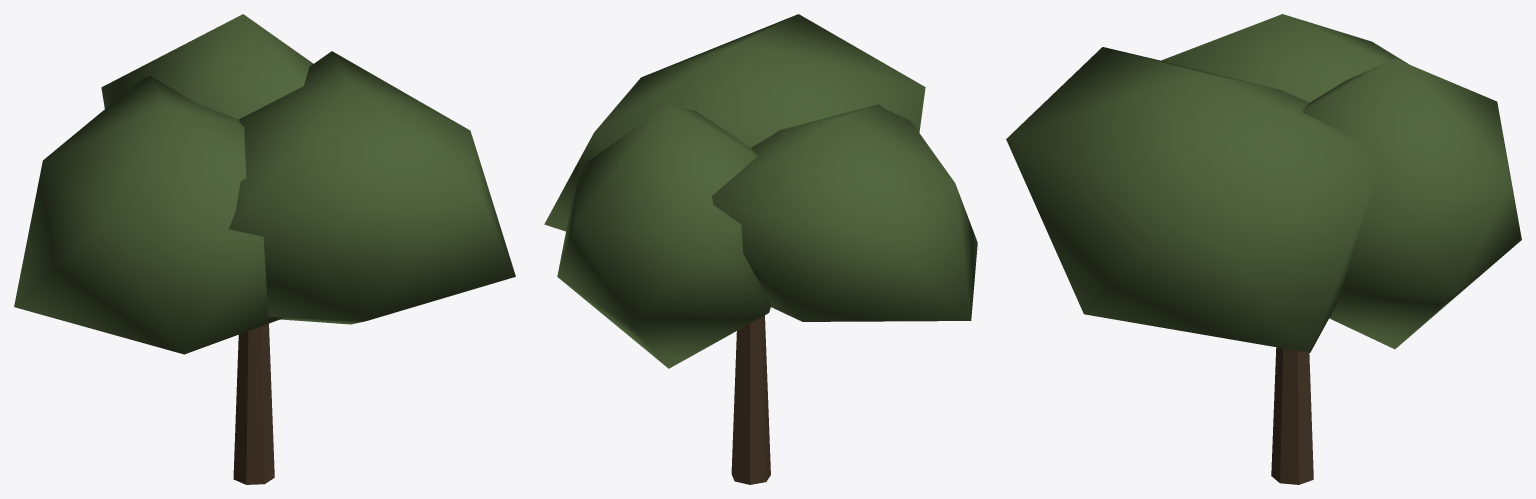
File: fv_tree_c.glb
3 views of the same model, side by side, from view 1: azimuth 30°, elevation 25°; view 2: azimuth 150°, elevation 25°; view 3: azimuth 270°, elevation 25° (orthographic). The views are drawn at different scales.
Parts seen in each view (by area): view 1: fv_tree_x2_c2.001, fv_tree_x2_c1.001, fv_tree_x2_c0.001, fv_tree_x2_trunk.001; view 2: fv_tree_x2_c1.001, fv_tree_x2_c0.001, fv_tree_x2_c2.001, fv_tree_x2_trunk.001; view 3: fv_tree_x2_c2.001, fv_tree_x2_c0.001, fv_tree_x2_c1.001, fv_tree_x2_trunk.001.
Boxes of the visible parts, x1,y1,x2,y2 form: fv_tree_x2_c2.001: (229,51,515,324); fv_tree_x2_c1.001: (14,75,284,354); fv_tree_x2_c0.001: (101,14,313,119); fv_tree_x2_trunk.001: (233,323,274,484); fv_tree_x2_c1.001: (712,104,977,321); fv_tree_x2_c0.001: (557,104,771,368); fv_tree_x2_c2.001: (544,14,925,231); fv_tree_x2_trunk.001: (731,315,770,484); fv_tree_x2_c2.001: (1006,47,1384,352); fv_tree_x2_c0.001: (1302,58,1521,349); fv_tree_x2_c1.001: (1161,14,1408,102); fv_tree_x2_trunk.001: (1271,347,1313,484).
Size of the model in its own units: 5.4 by 4.84 by 5.18.
